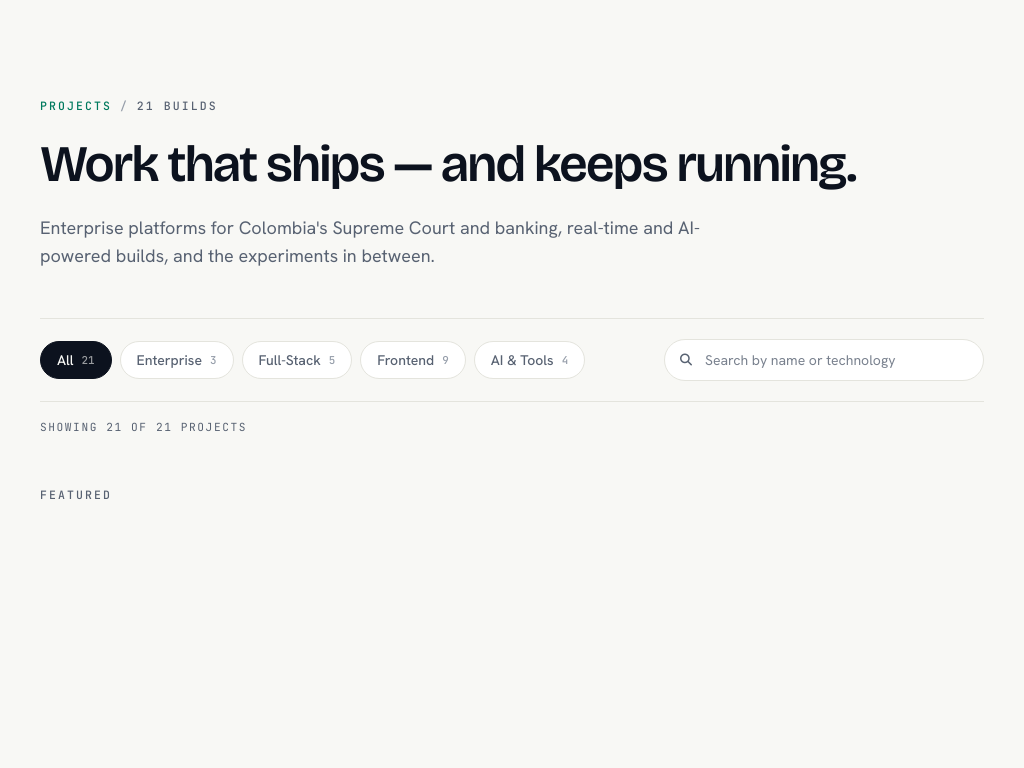
Scenario: PortfolioPage › searches titles, descriptions and technologies
Type "signalr" into the search field named "search projects" at [824, 360], box [664,339,984,381]
(page scrolled)
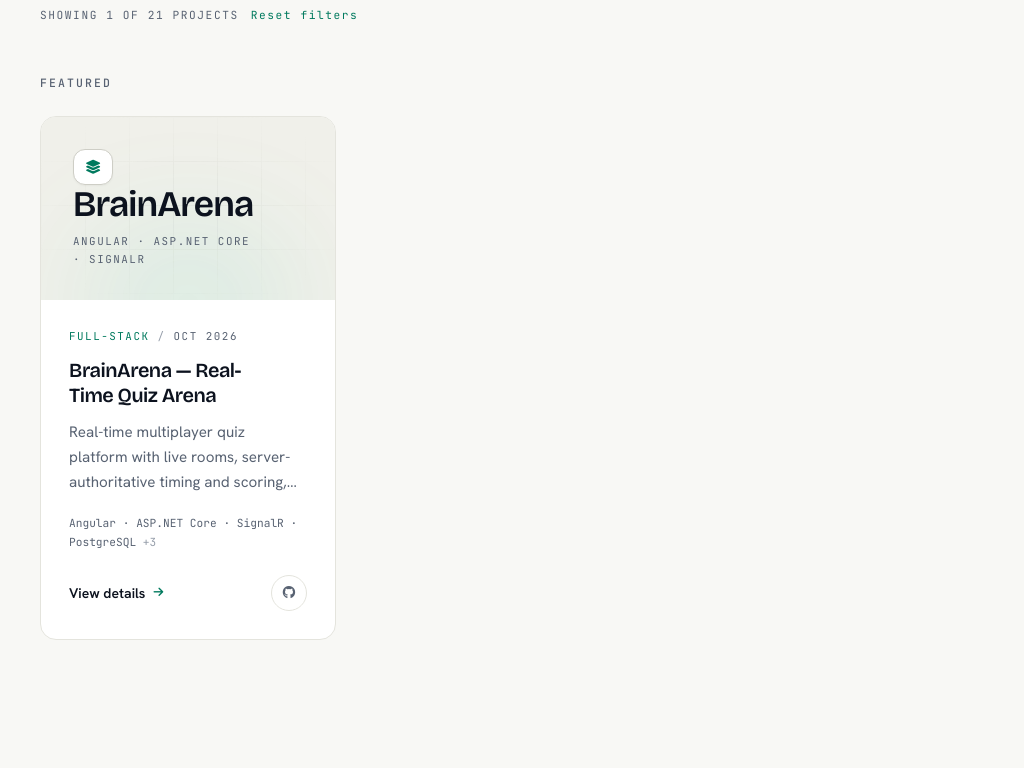
Now the button "BrainArena — Real-Time Quiz Arena" is shown, box [69,358,307,408]
